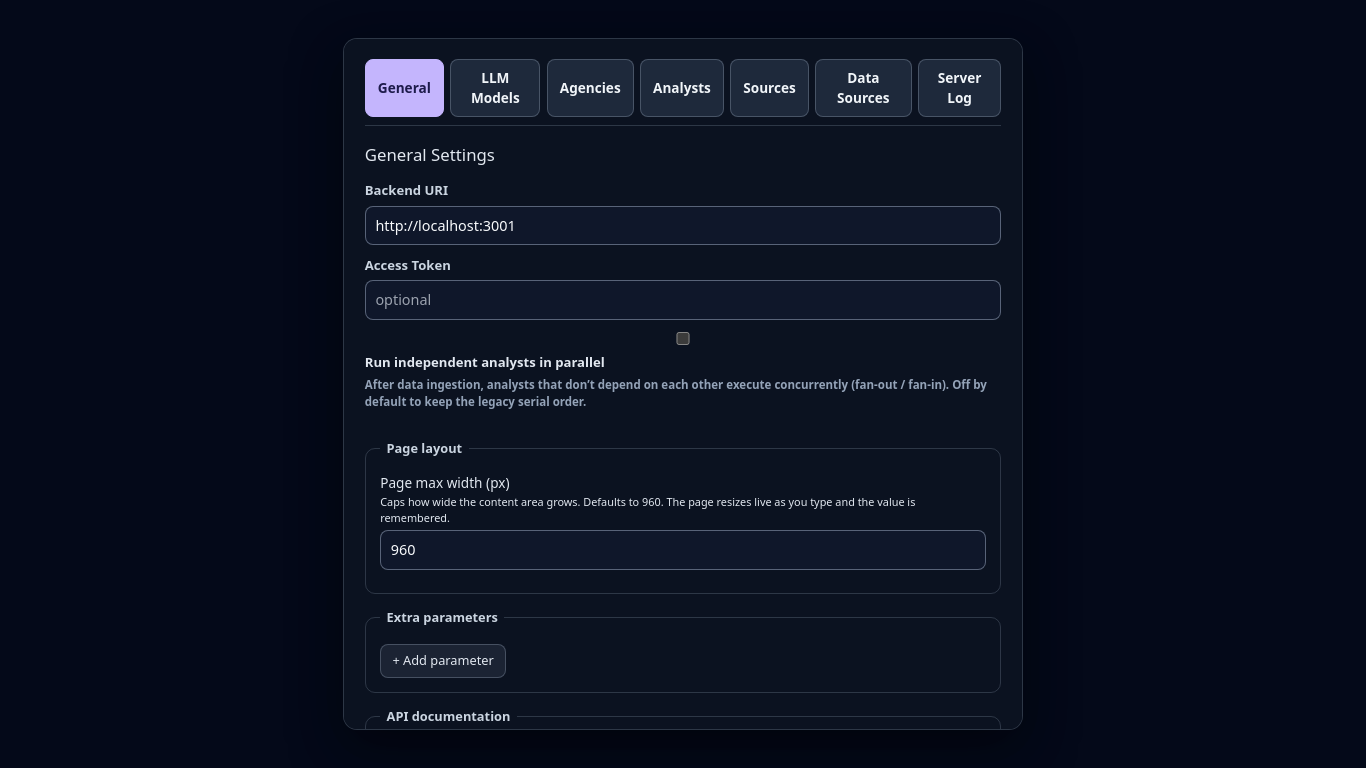
Test: SettingsDialog — Analysts tab › lists analysts and disables Delete on built-ins but not custom
Click the tab with test id "tab-analysts". click: [682, 88]
box: [640,59,724,117]
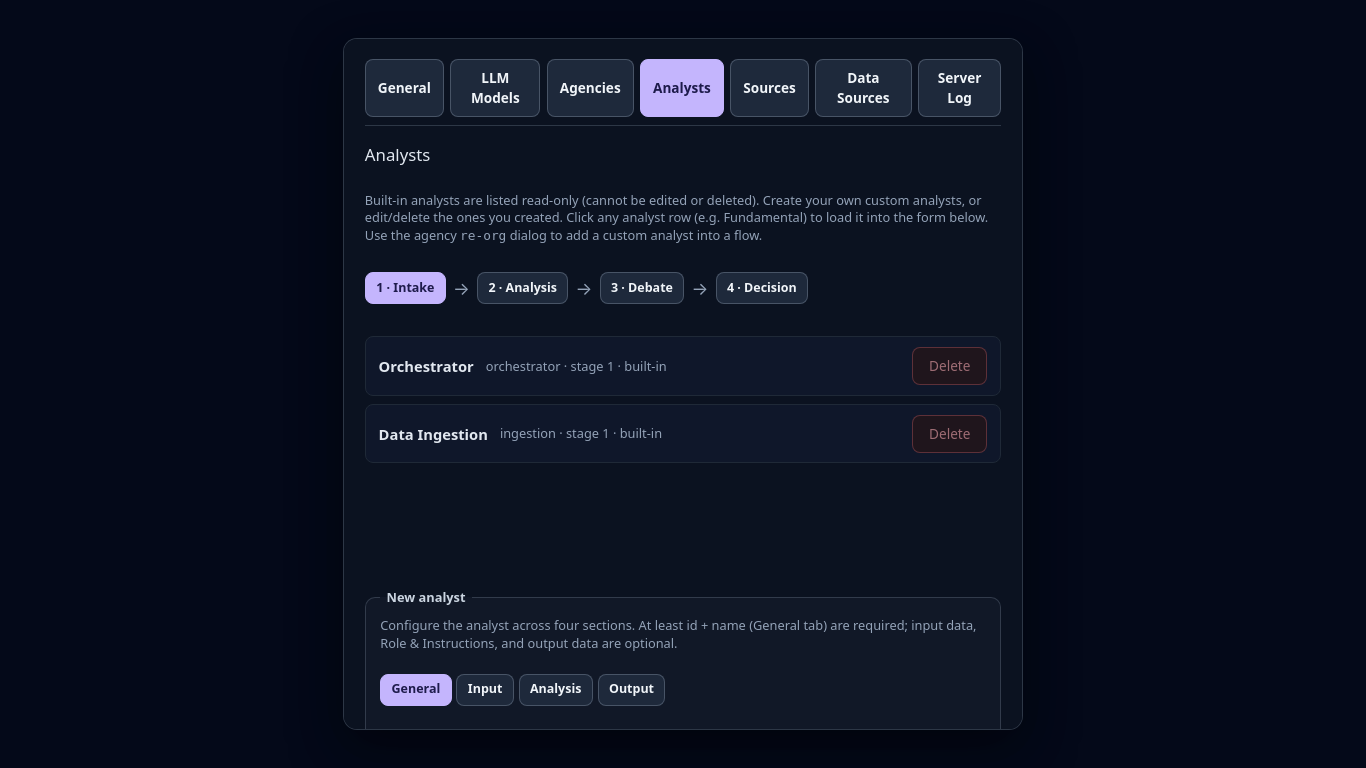
Check: the list with test id "analyst-admin-list" is shown, box [365,336,1001,464]
Click the tab with test id "analyst-stage-2". click: [523, 288]
box: [477,272,568,304]
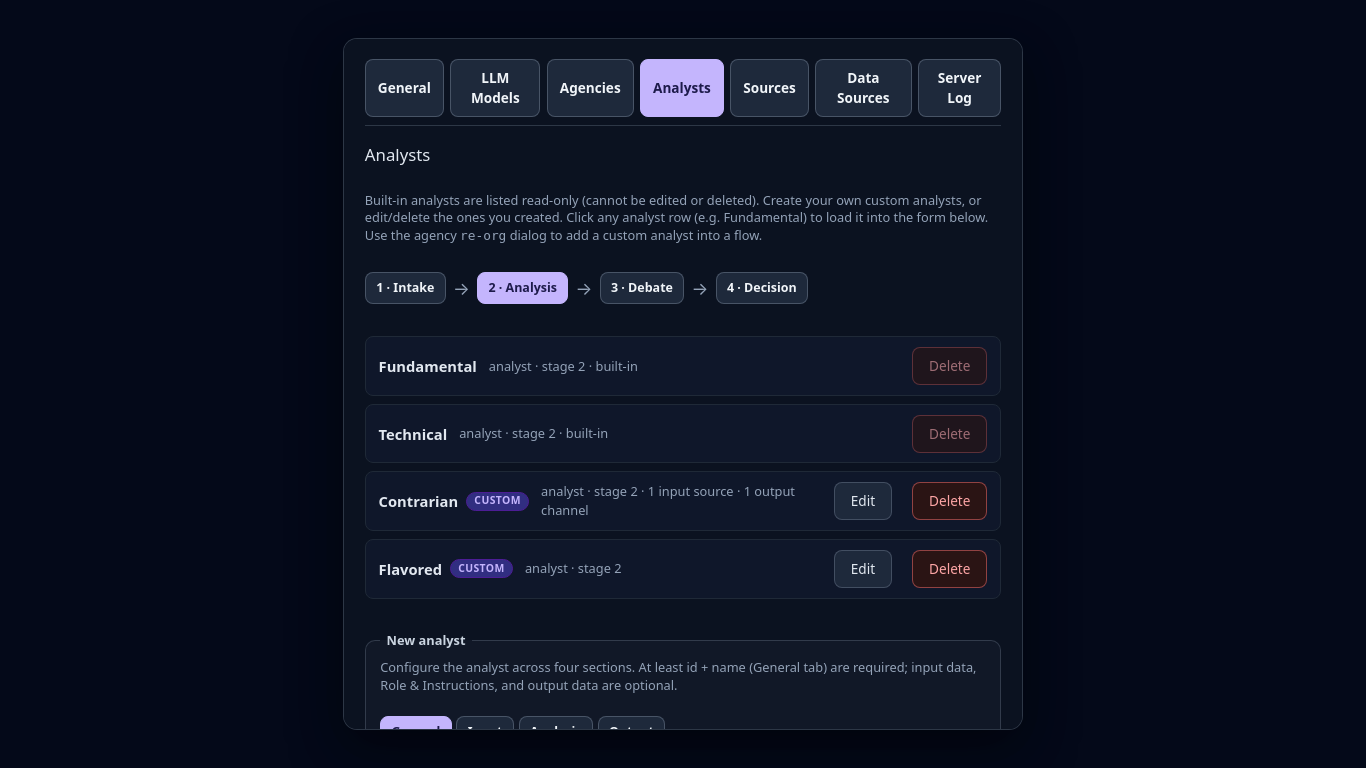
Check: the list item with test id "analyst-admin-fundamental" is shown, box [365,336,1001,396]
Check: the list item with test id "analyst-admin-contrarian" is shown, box [365,472,1001,531]
Check: the button with test id "analyst-delete-contrarian" is enabled, box [912,482,987,520]
